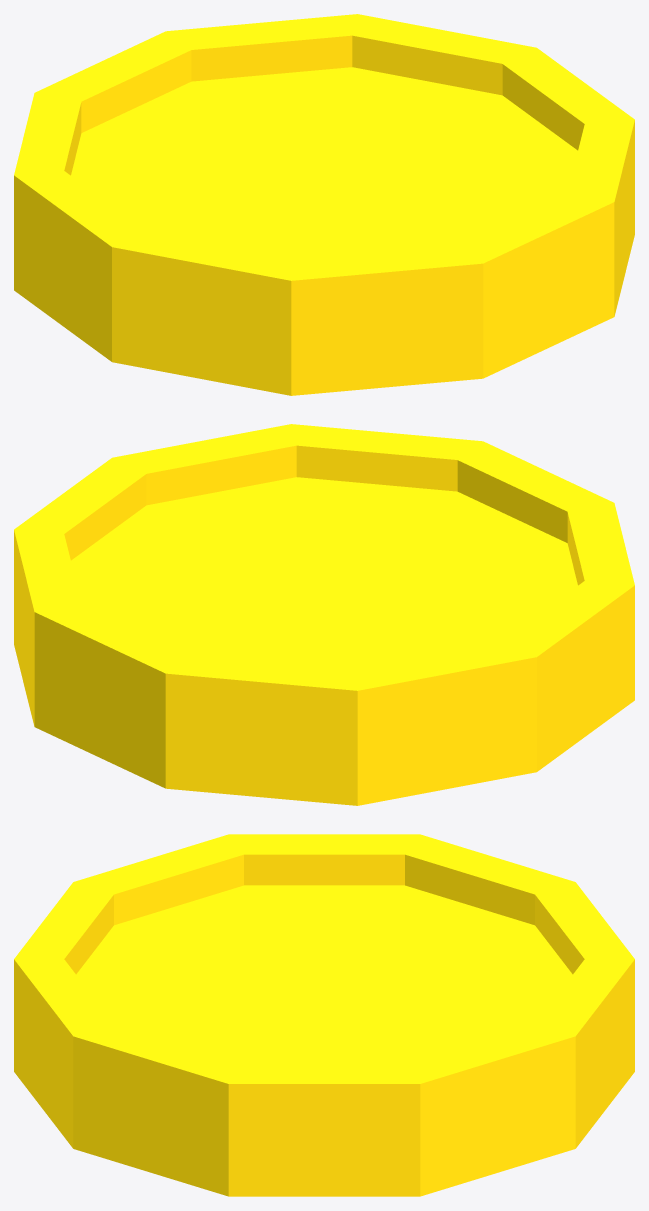
The model's file is gold_coin.glb.
3 views of the same model, one above another, from view 1: azimuth 30°, elevation 25°; view 2: azimuth 150°, elevation 25°; view 3: azimuth 270°, elevation 25° (orthographic). The views are drawn at different scales.
Visible parts, largest first — view 1: Coin_0; view 2: Coin_0; view 3: Coin_0.
Boxes of the visible parts, box(x1,y1,x2,y2) form: Coin_0: box(14, 14, 634, 395); Coin_0: box(14, 424, 634, 805); Coin_0: box(14, 834, 634, 1196).
Bounding box in the file's own units: 0.0476 × 0.01 × 0.05.
